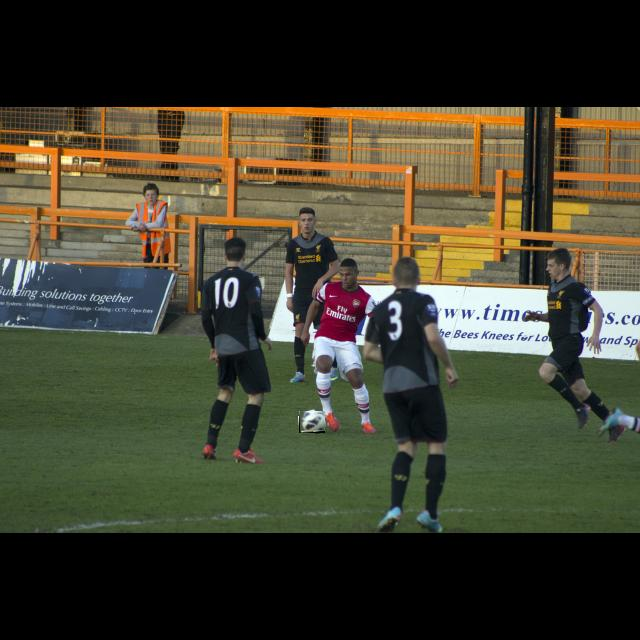Football: (299, 411, 325, 433)
